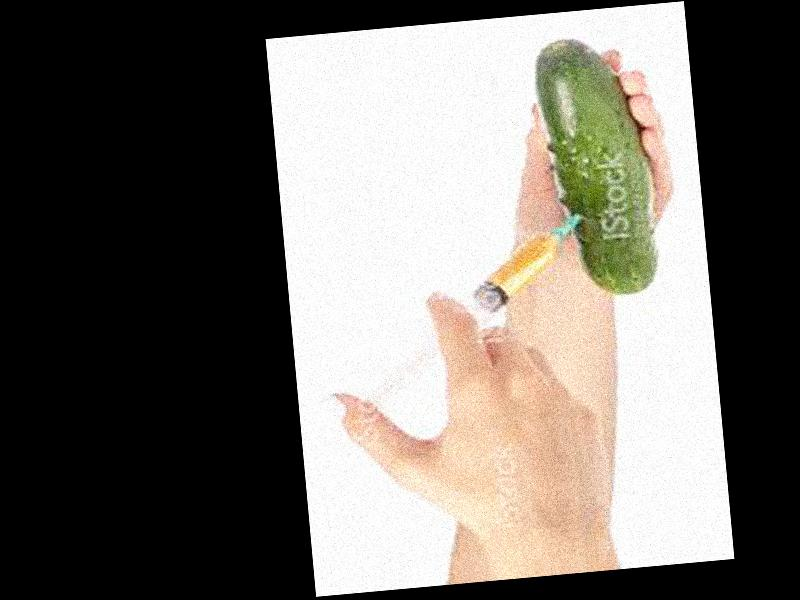Cucumber: (532, 31, 655, 300)
